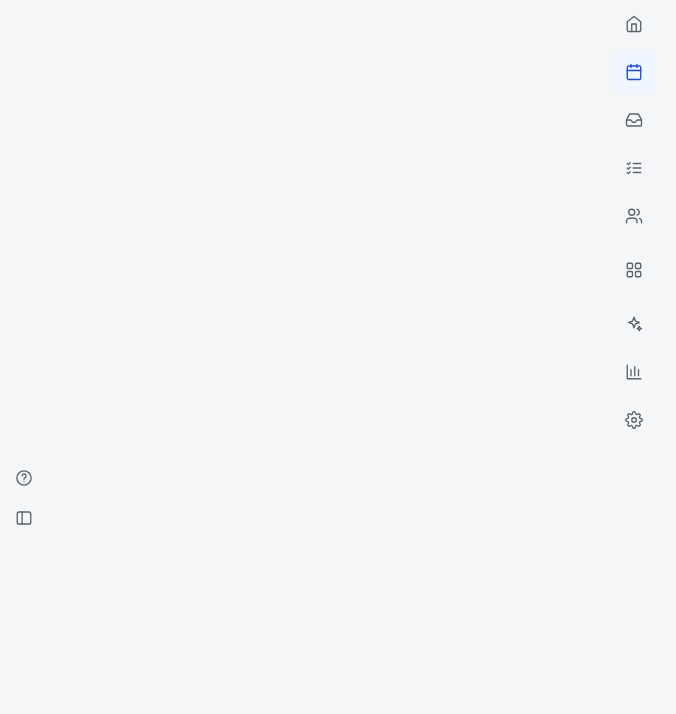
Test: Etapa A — sidebar por seções › painel META: UM grupo aberto por vez; clicar no grupo ABERTO fecha
Click the button named "Gestão". click: x=634, y=372
box: [612,350,656,394]
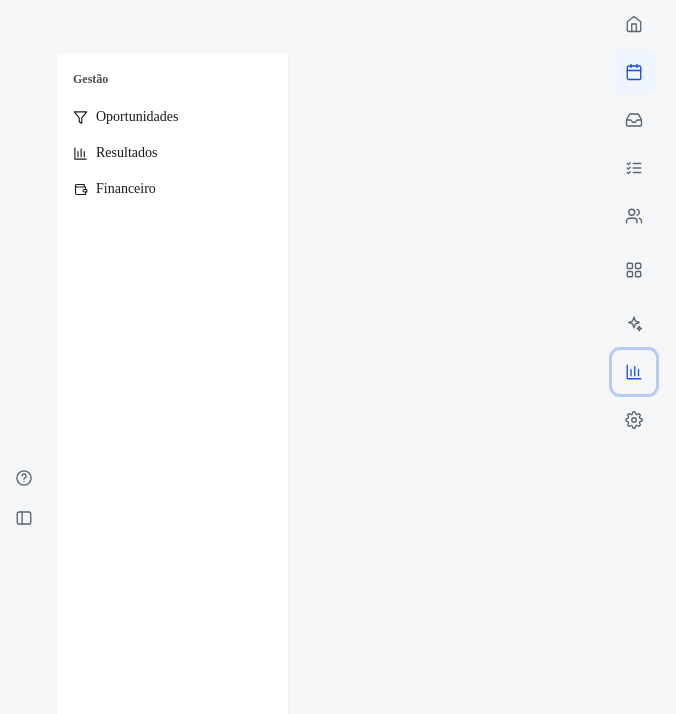
Expected: the button named "Gestão" is expanded, [612,350,656,394]
Click the button named "Configurações". click: x=634, y=420
box: [612,398,656,442]
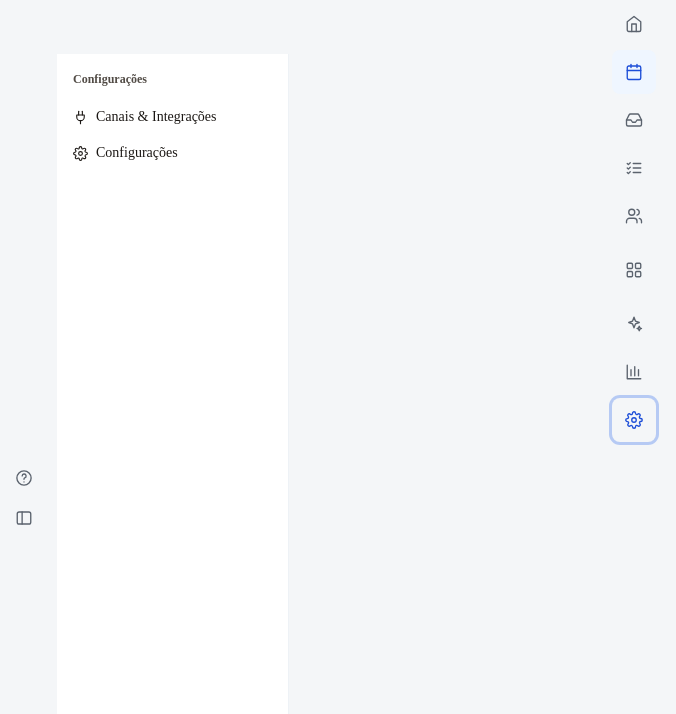
Expected: the button named "Gestão" is collapsed, [612,350,656,394]
Expected: the button named "Configurações" is expanded
Clicar no grupo aberto FECHA — zero painéis abertos é estado VÁLIDO.
Click the button named "Configurações". click: x=634, y=420
box: [612,398,656,442]
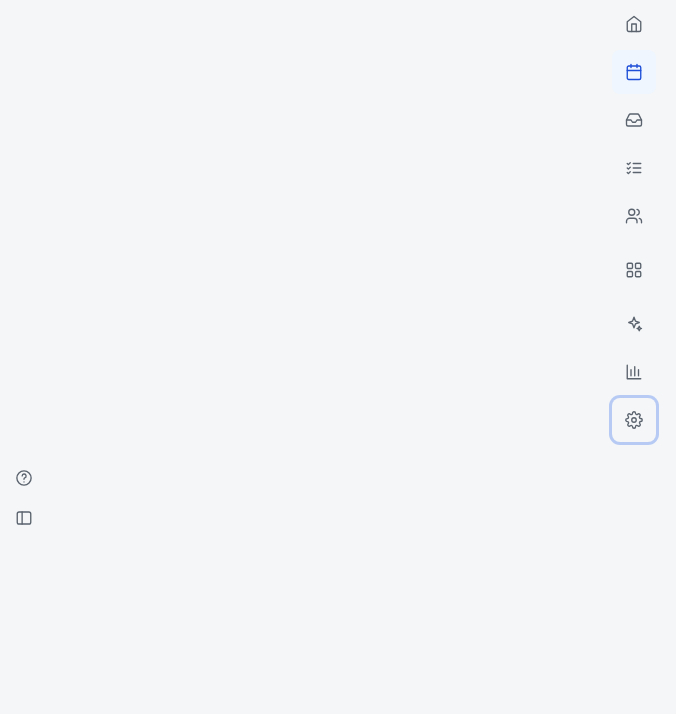
Expected: the button named "Configurações" is collapsed, [612,398,656,442]
